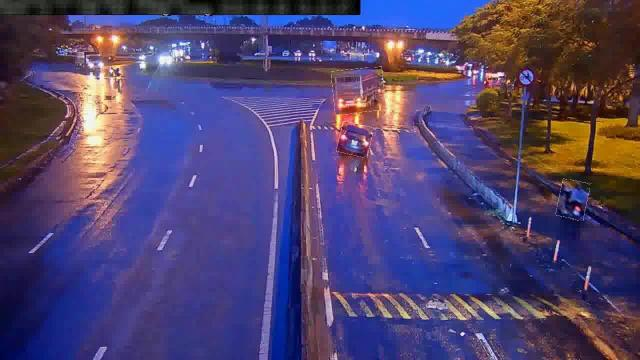Bike: (557, 180, 589, 220)
Car: (338, 123, 372, 157)
Truck: (332, 68, 384, 114)
